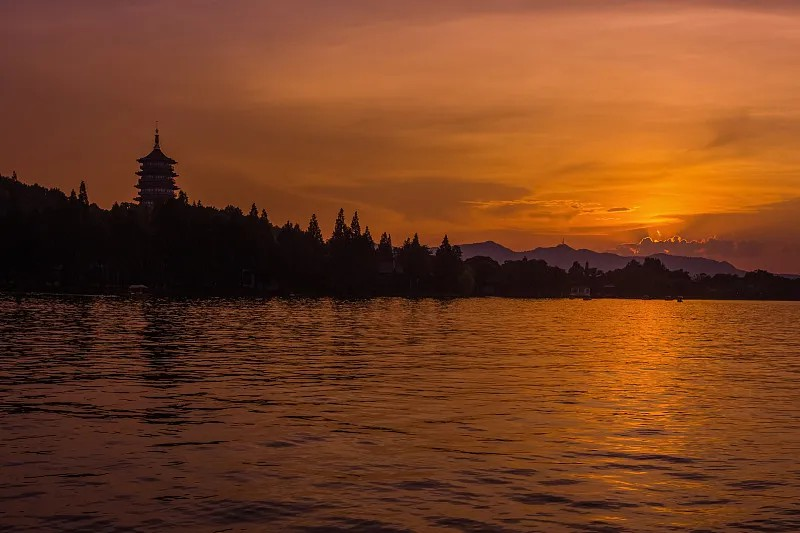Leifeng: (133, 121, 181, 210)
